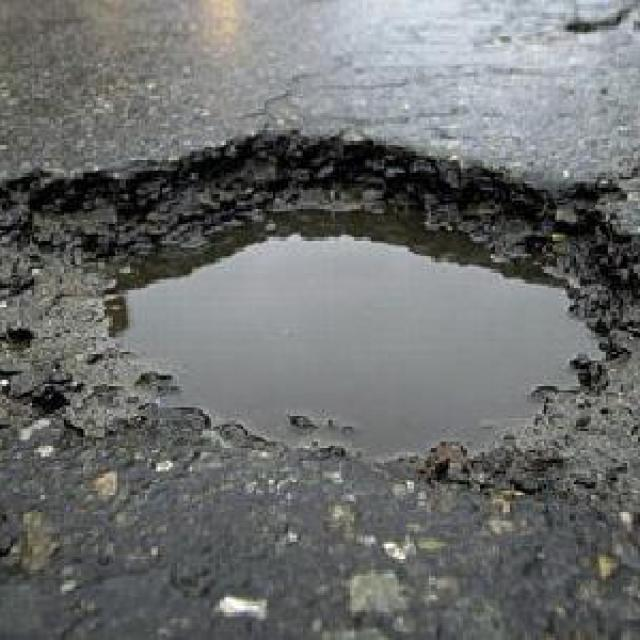pothole: (0, 131, 640, 487)
